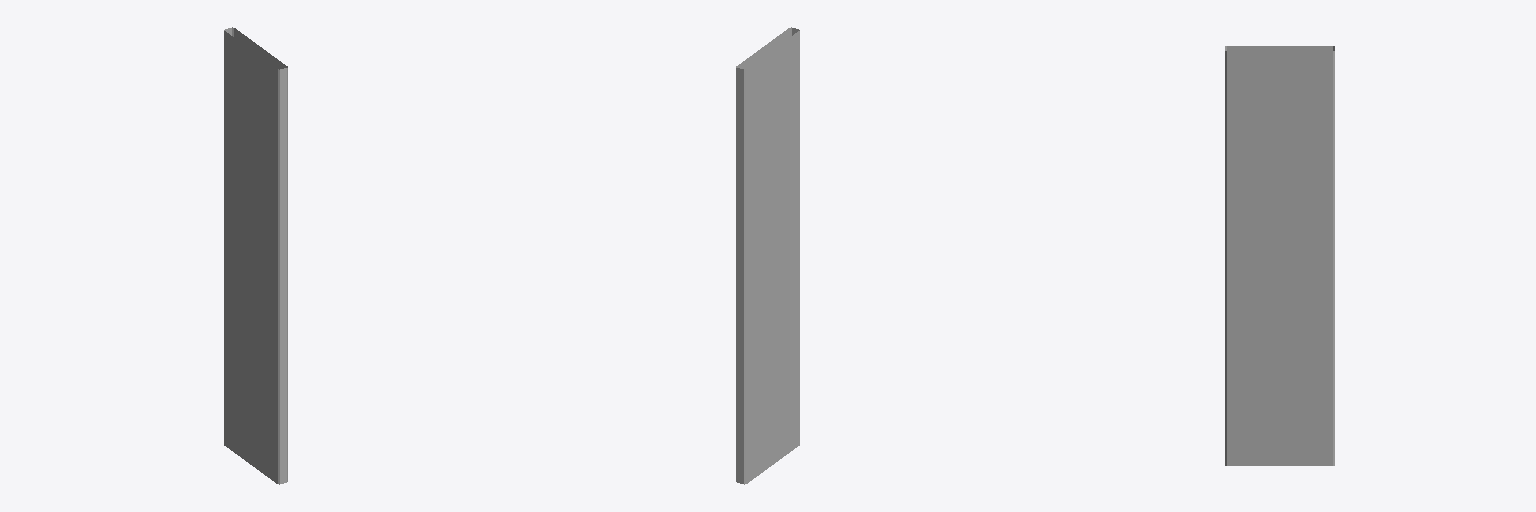
The model's file is PlayerHomeBigDangBoard.obj.
3 views of the same model, side by side, from view 1: azimuth 30°, elevation 25°; view 2: azimuth 150°, elevation 25°; view 3: azimuth 270°, elevation 25° (orthographic).
Visible parts, largest first — view 1: Cube.032_Cube.076; view 2: Cube.032_Cube.076; view 3: Cube.032_Cube.076.
Boxes of the visible parts, box(x1,y1,x2,y2) form: Cube.032_Cube.076: box(224, 27, 287, 484); Cube.032_Cube.076: box(736, 27, 799, 484); Cube.032_Cube.076: box(1225, 46, 1334, 465).
Bounding box in the file's own units: 0.0736 × 2.81 × 0.6753.